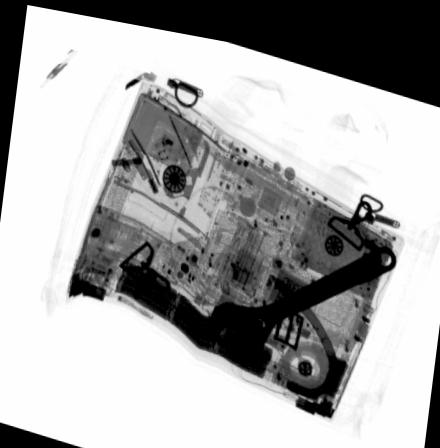Wrench: (206, 227, 396, 351)
